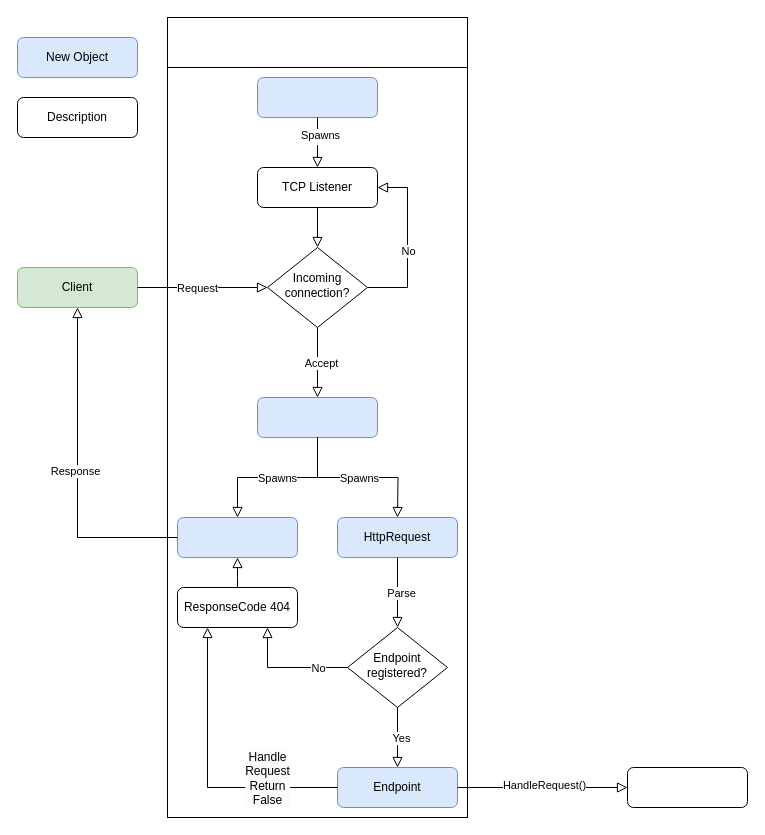
Image size: 765x835. Some labels were removed from this diagram. Each missing label, with the centre of its shape:
Business Layer: the point at 687,787
HttpProcessor: the point at 317,417
HttpResponse: the point at 237,537
HttpServer: the point at 317,97
Static Content Layer: the point at 317,42
